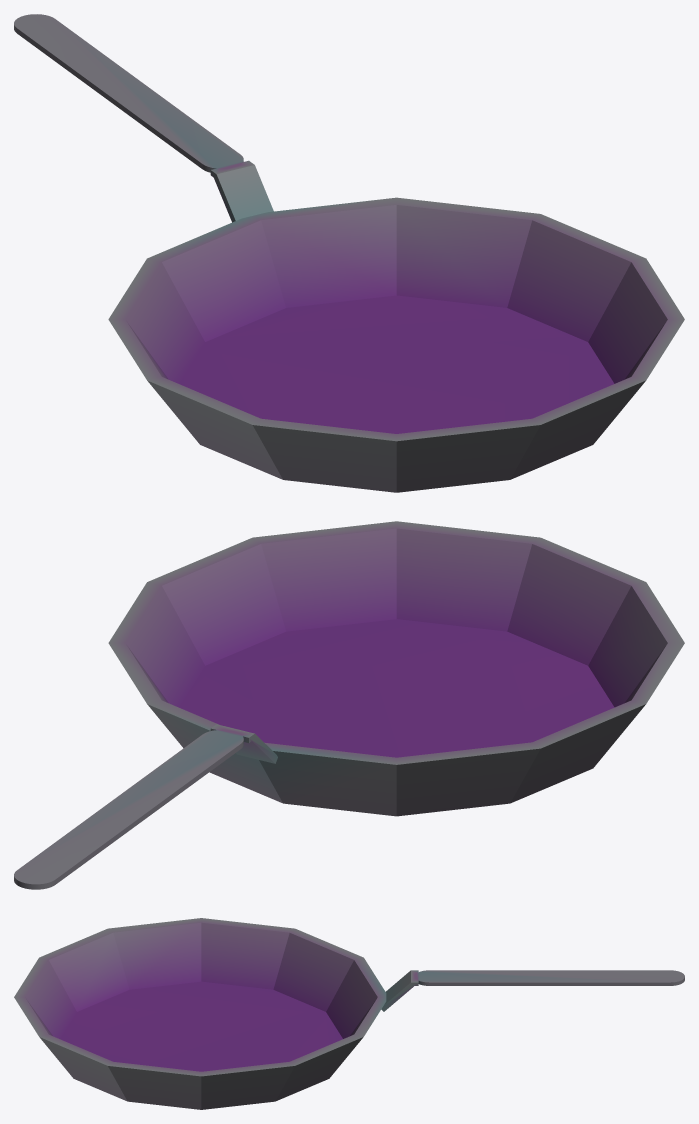
The picture shows the model from 3 angles, top to bottom: view 1: azimuth 30°, elevation 25°; view 2: azimuth 150°, elevation 25°; view 3: azimuth 270°, elevation 25°; orthographic projection. The views are drawn at different scales.
Visible parts, largest first — view 1: pan, blade; view 2: pan, blade; view 3: pan, blade.
Part boxes in pixels (left/top/right/bottom): pan: left=108, top=197, right=684, bottom=492; blade: left=14, top=14, right=273, bottom=222; pan: left=108, top=521, right=684, bottom=816; blade: left=14, top=724, right=277, bottom=889; pan: left=14, top=918, right=386, bottom=1109; blade: left=381, top=970, right=684, bottom=1011.
Bounding box in the file's own units: 0.1956 × 0.041 × 0.35.
